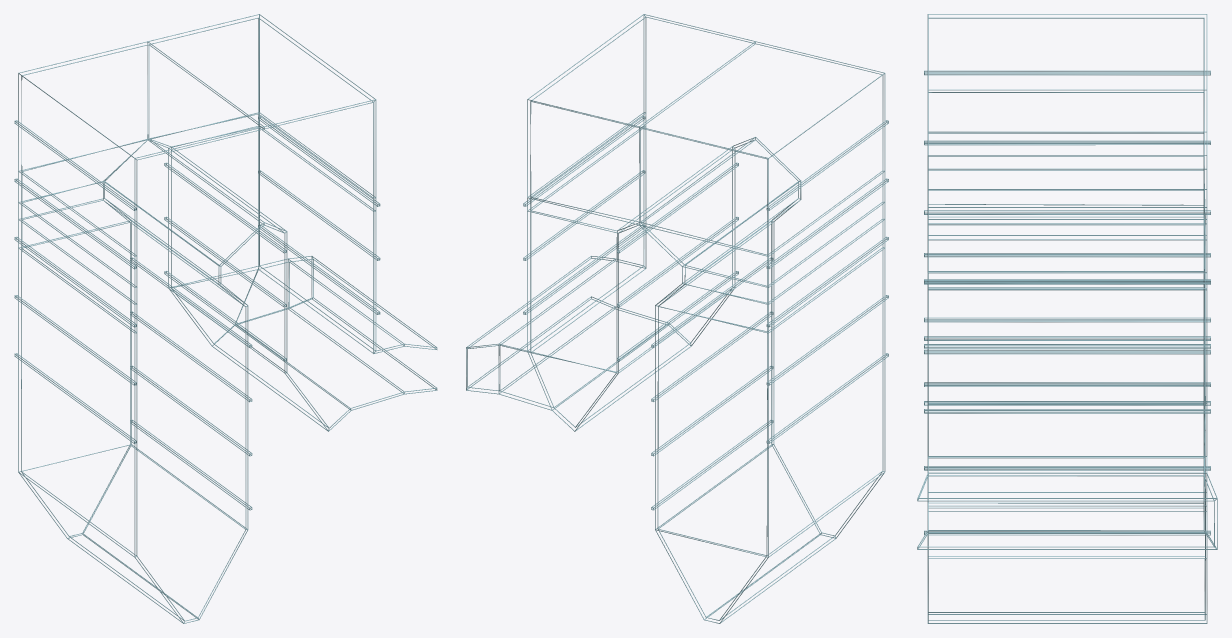
Rendered from xiankuang(1).fbx.
3 views of the same model, side by side, from view 1: azimuth 30°, elevation 25°; view 2: azimuth 150°, elevation 25°; view 3: azimuth 270°, elevation 25° (orthographic). The views are drawn at different scales.
Parts seen in each view (by area): view 1: 扫描; view 2: 扫描; view 3: 扫描.
Part boxes in pixels (x1,y1,x2,y2): 扫描: [14, 14, 437, 623]; 扫描: [466, 14, 888, 623]; 扫描: [917, 14, 1217, 623].
Bounding box in the file's own units: 291 × 441 × 210.
